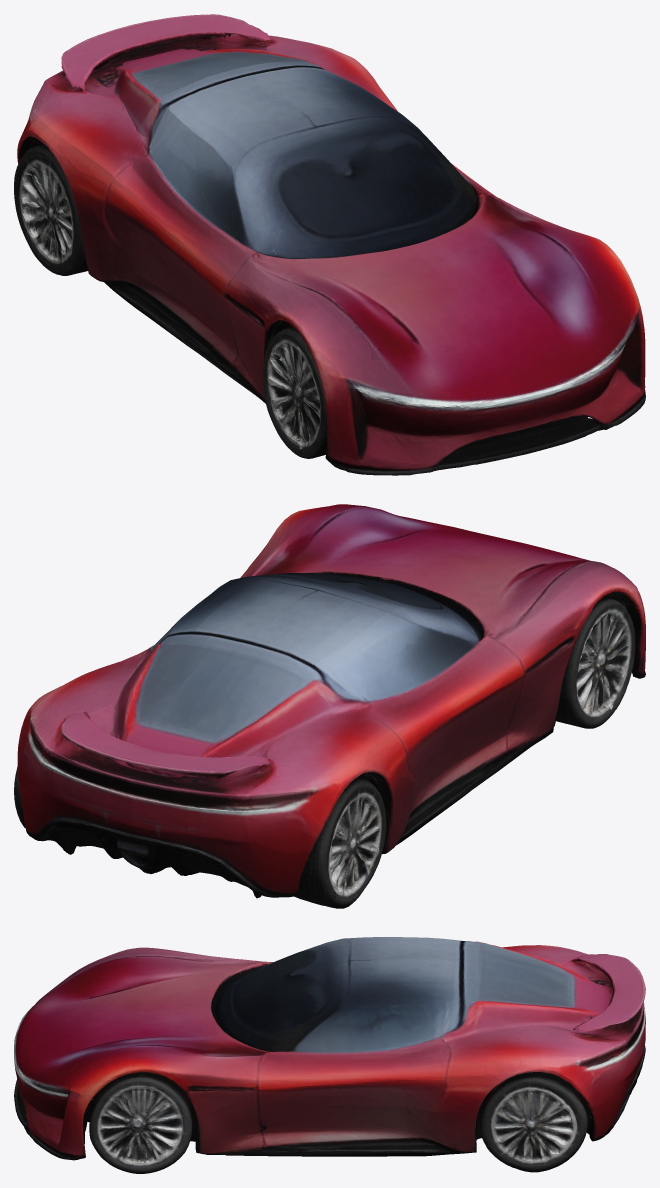
File: wheels-roadster.glb
The picture shows the model from 3 angles, top to bottom: view 1: azimuth 30°, elevation 25°; view 2: azimuth 150°, elevation 25°; view 3: azimuth 270°, elevation 25°; orthographic projection. The views are drawn at different scales.
Visible parts, largest first — view 1: geometry_0; view 2: geometry_0; view 3: geometry_0.
Part boxes in pixels (left/top/right/bottom): geometry_0: left=14, top=14, right=645, bottom=475; geometry_0: left=14, top=504, right=645, bottom=908; geometry_0: left=14, top=937, right=645, bottom=1173.
Size of the model in its own units: 0.4616 by 0.2726 by 0.9997.
1 material, 1 textured.
